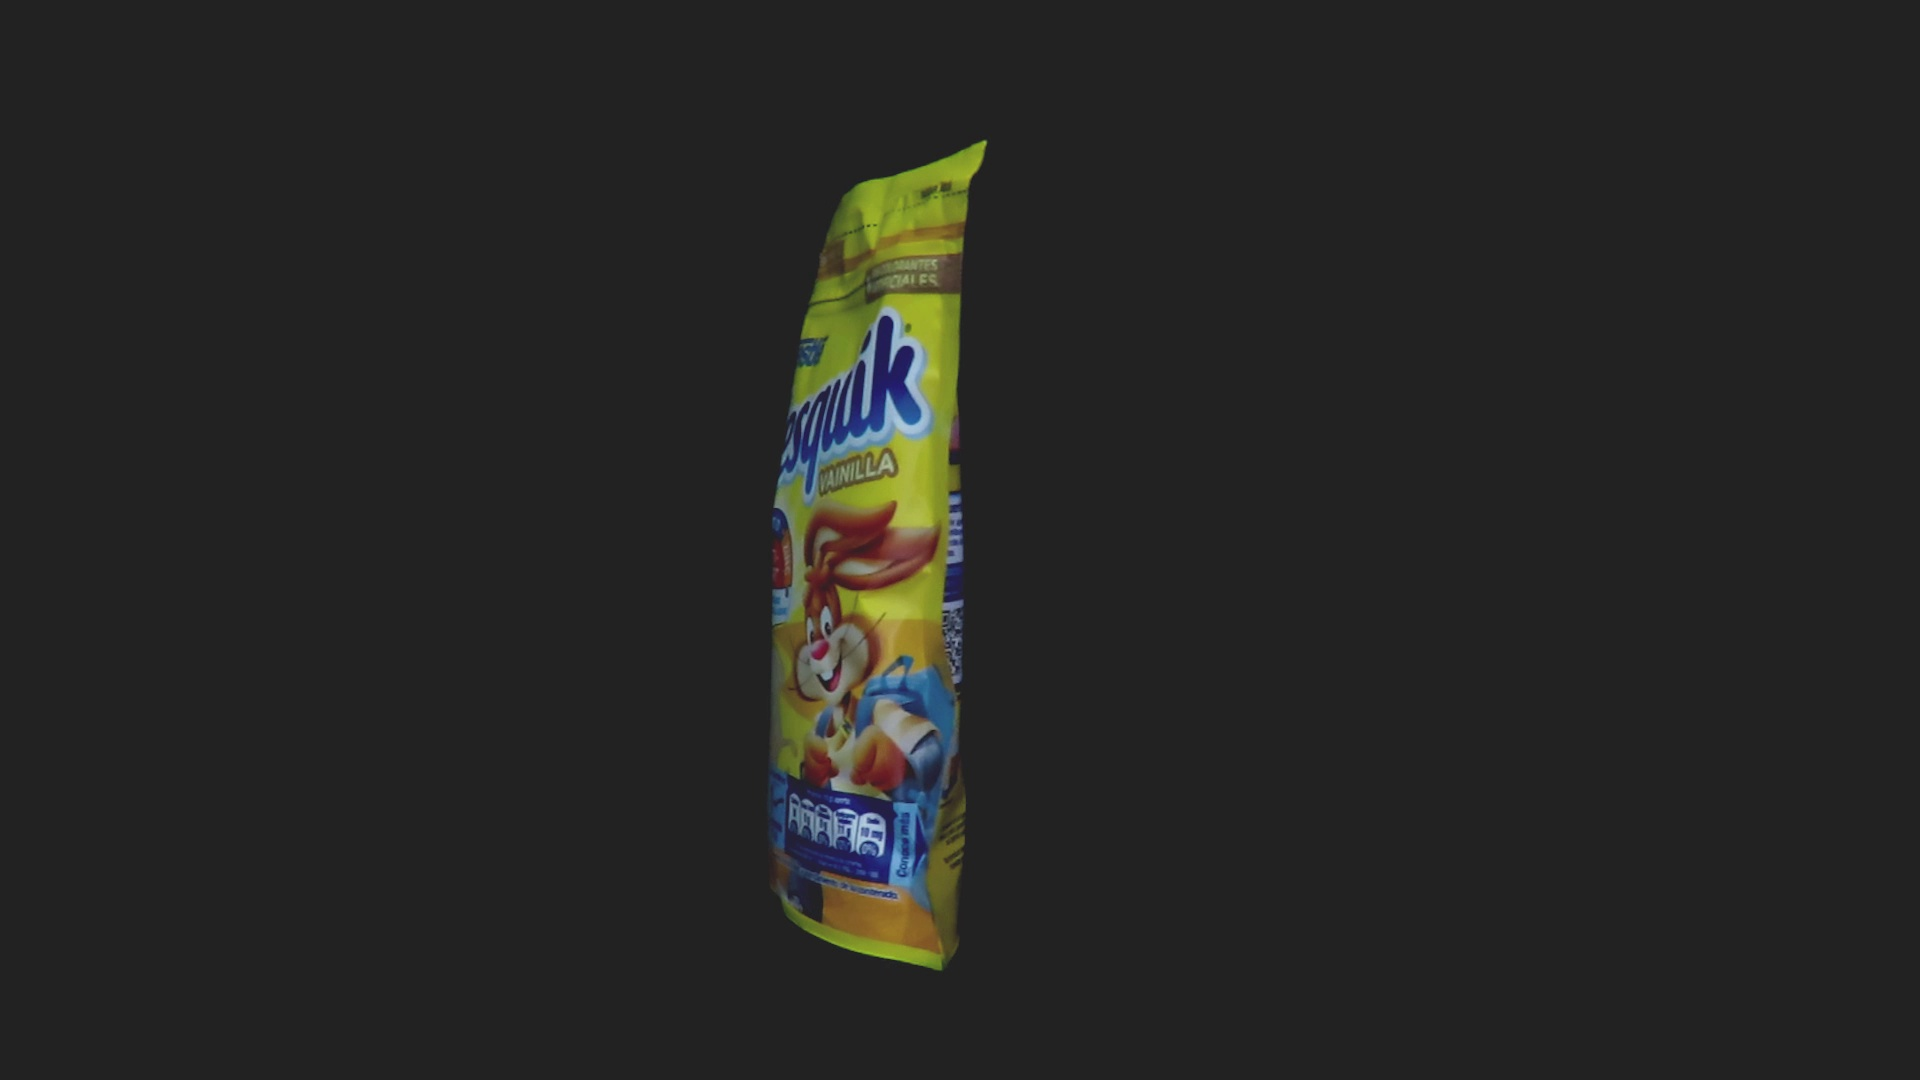COL0170306DYP20000: (764, 135, 993, 977)
